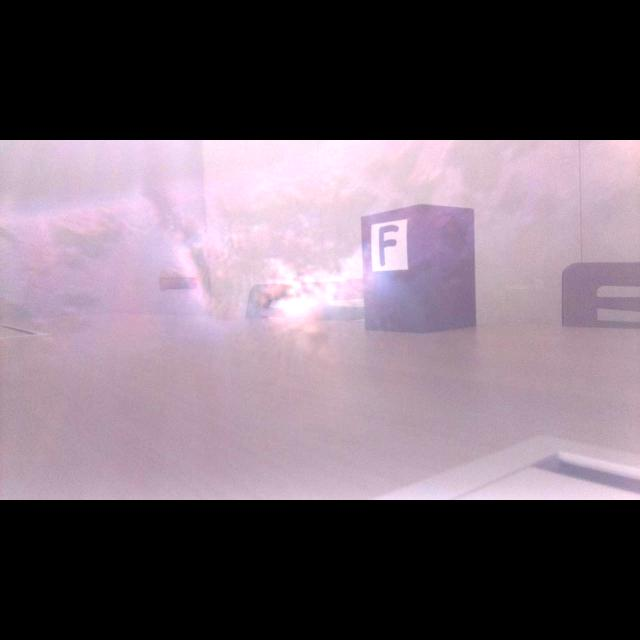F: (379, 224, 399, 266)
